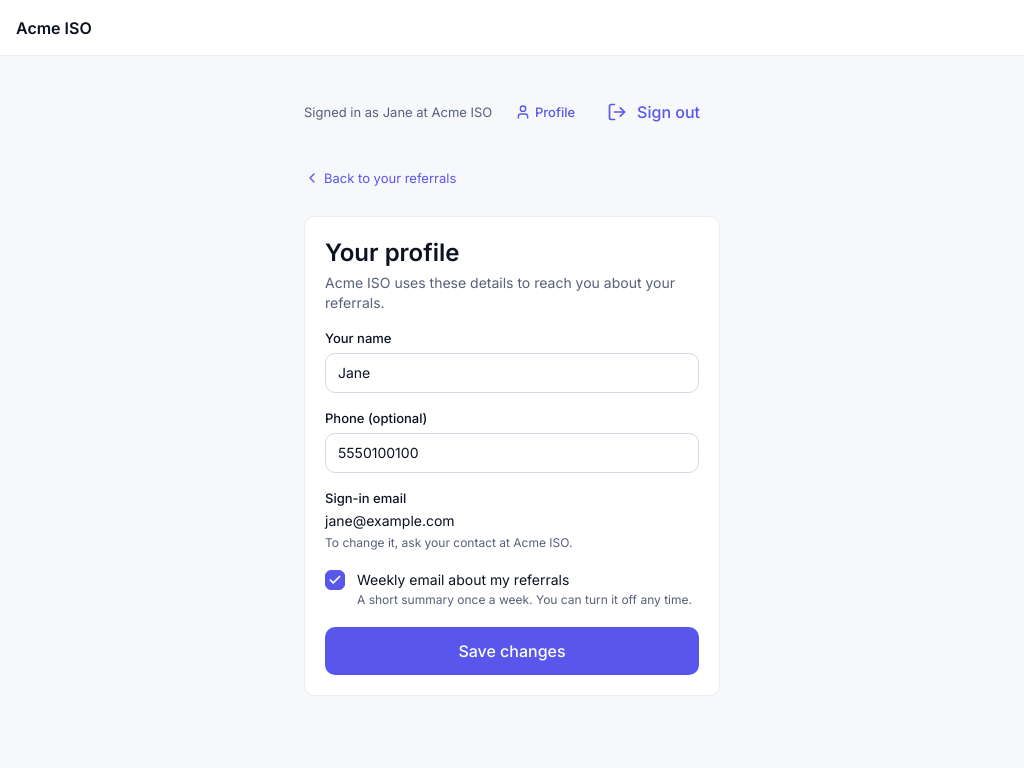
Test: PortalProfilePage › drops the Saved. note as soon as a field is edited again
The image size is (1024, 768).
Click the button "Save changes". click: (512, 651)
box: [325,627,699,675]
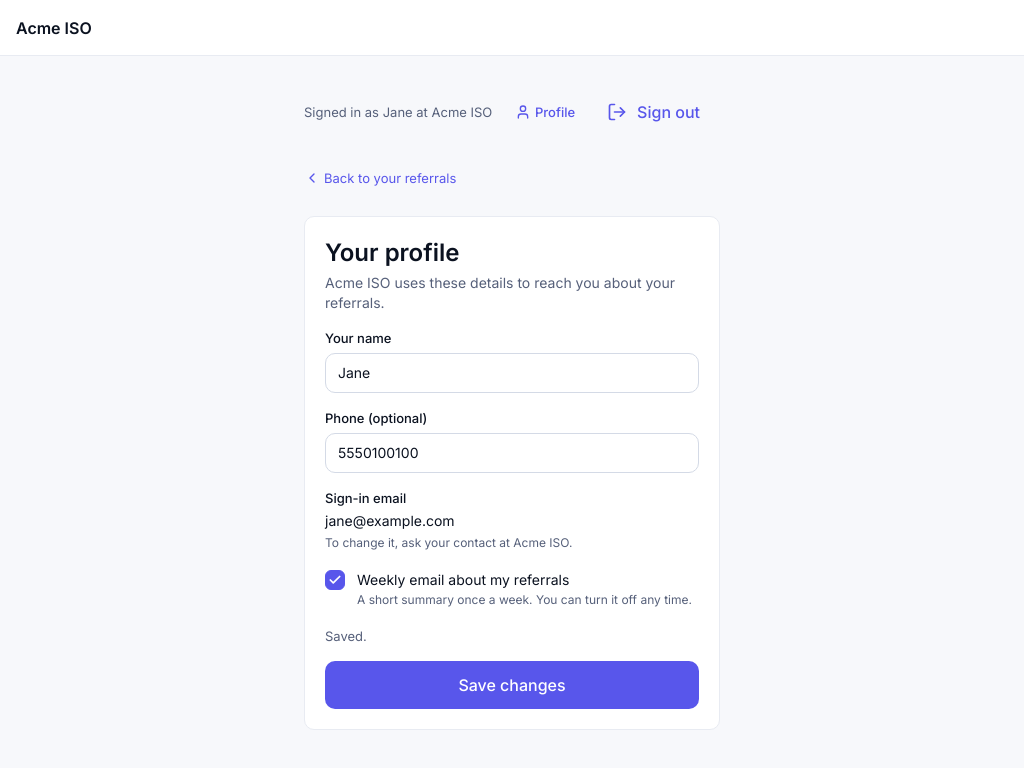
Result: the message reads "Saved." at [325,628,367,644]
Type " S" into the field labelled "Your name". click: (512, 373)
box: [338,363,686,383]
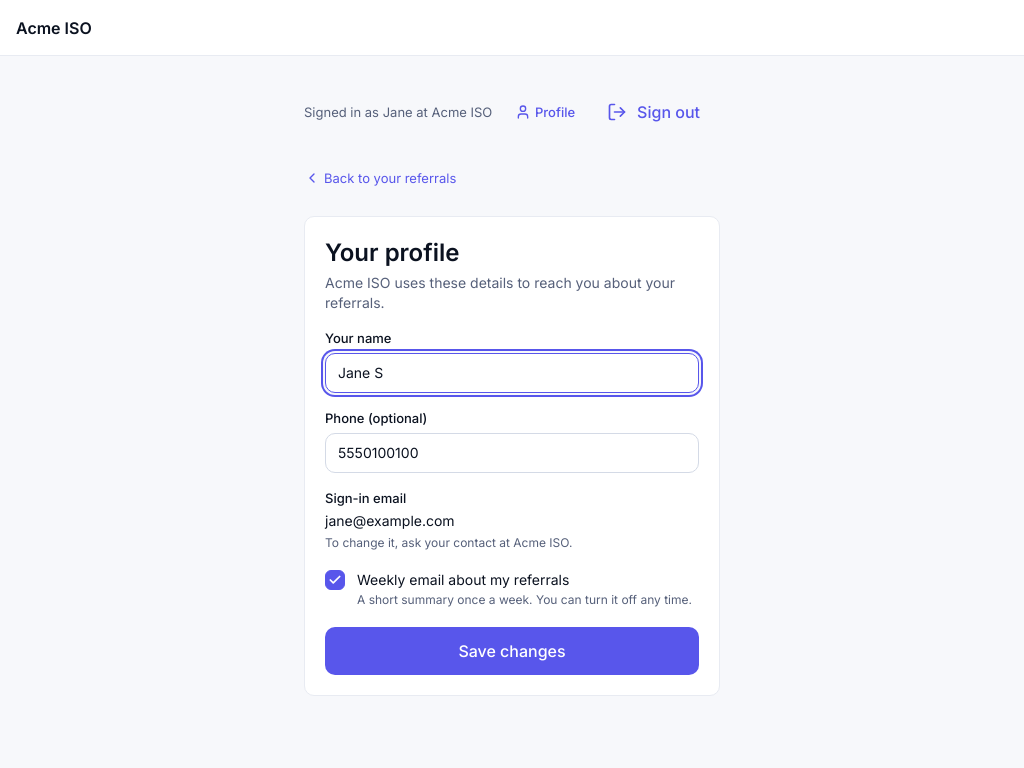
Result: the text "Saved." is gone
Click the button "Save changes". click: (512, 651)
box: [325,627,699,675]
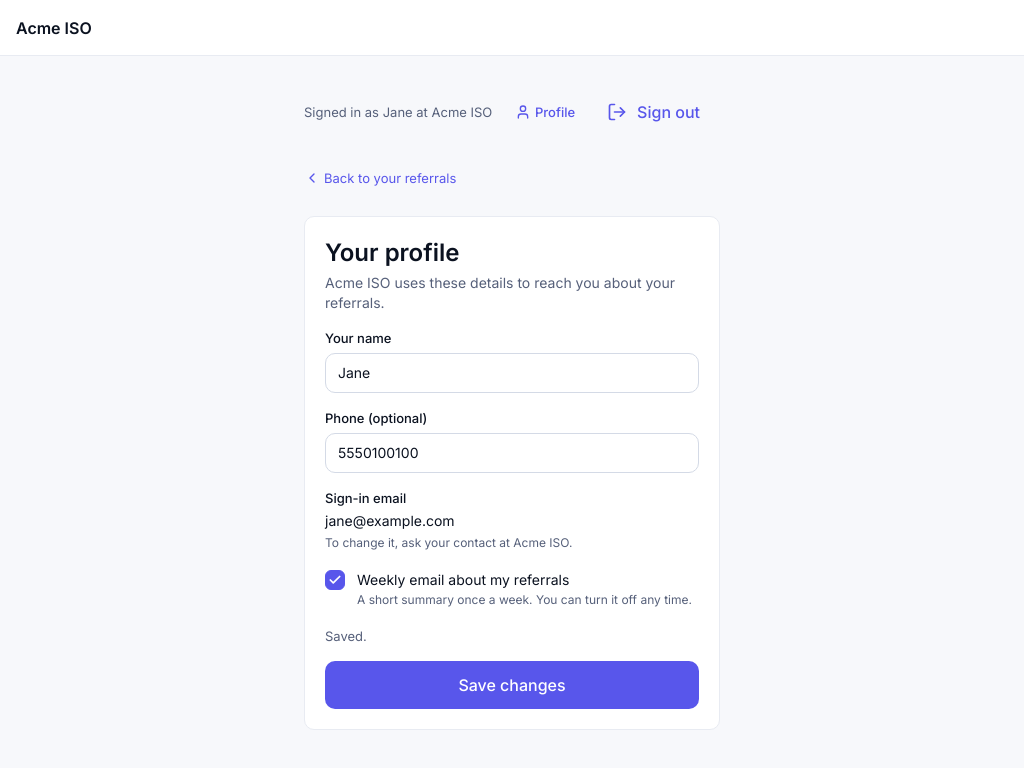
Result: the message reads "Saved." at [325,628,367,644]
Type "1" into the field labelled "Phone (optional)". click: (512, 453)
box: [338,443,686,463]
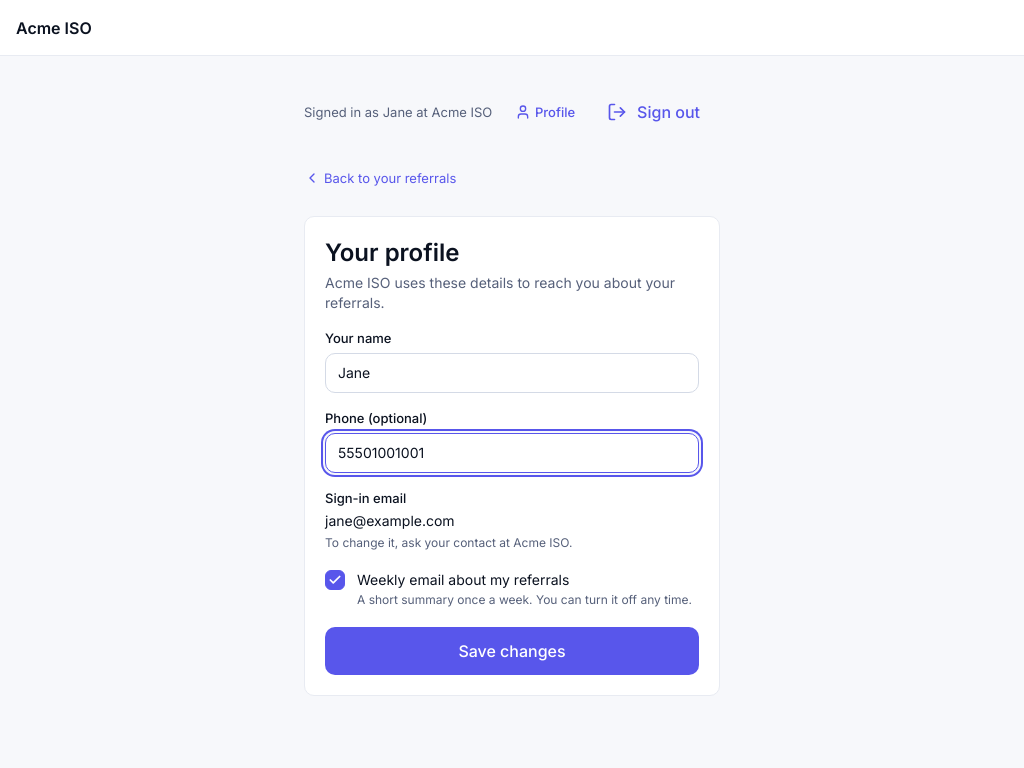
Result: the text "Saved." is gone
Click the button "Save changes". click: (512, 651)
box: [325,627,699,675]
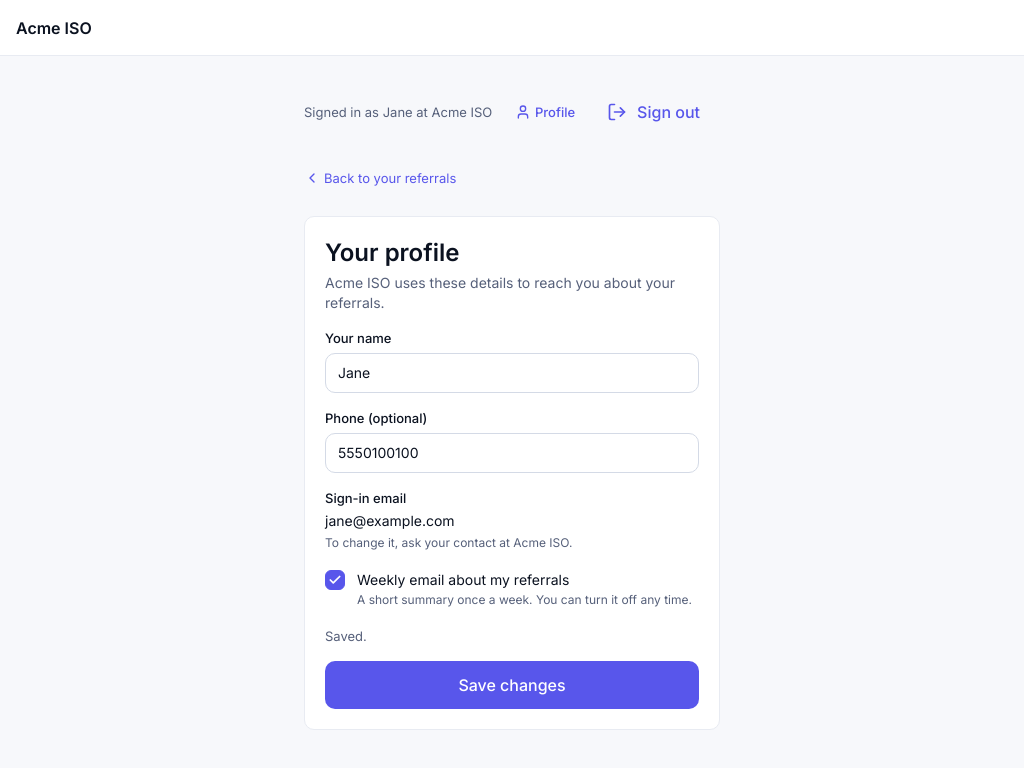
Result: the message reads "Saved." at [325,628,367,644]
Click the checkbox named "Weekly email about my referrals". click: (335, 580)
box: [325,570,345,590]
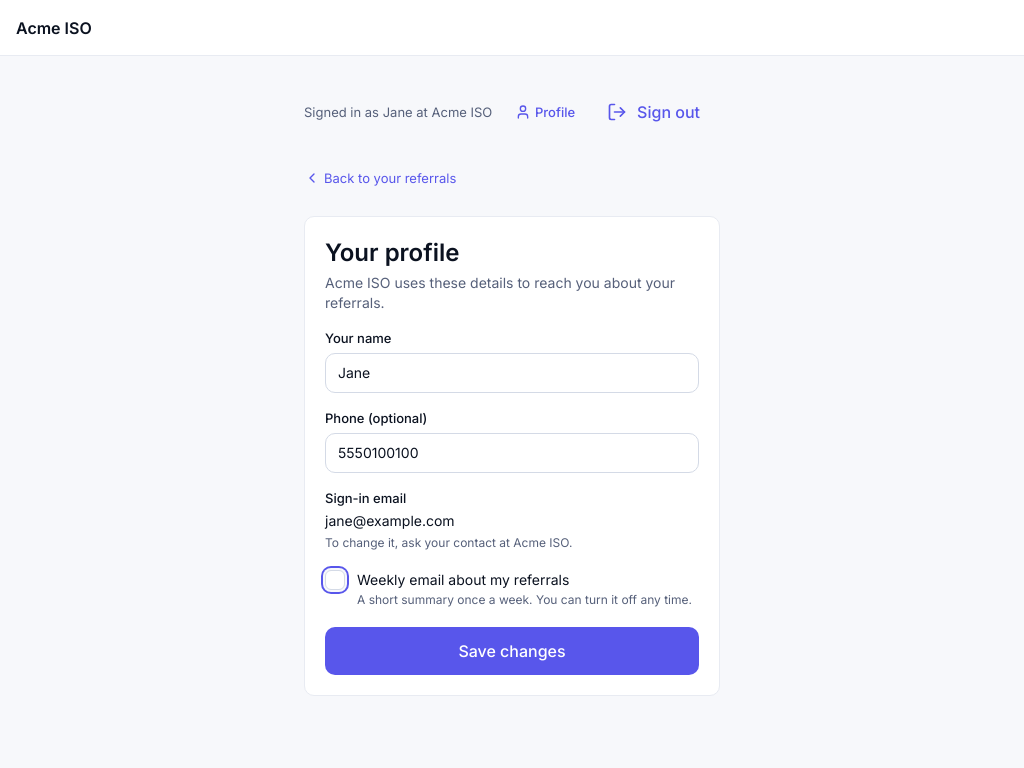
Result: the text "Saved." is gone
